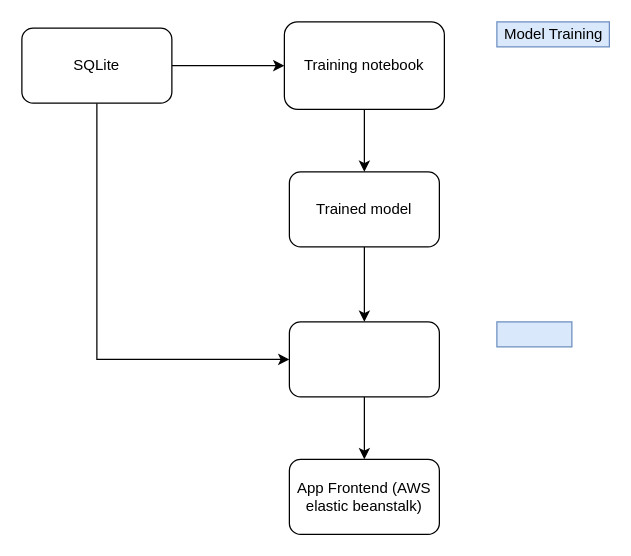
Image size: 631x556. Some labels were removed from this diagram. The box of each missing label's shape, as (x1, y1, x2, y2) in pixels:
Flask API (AWS elastic beanstalk): (288, 321, 439, 397)
Web App: (496, 321, 572, 347)
